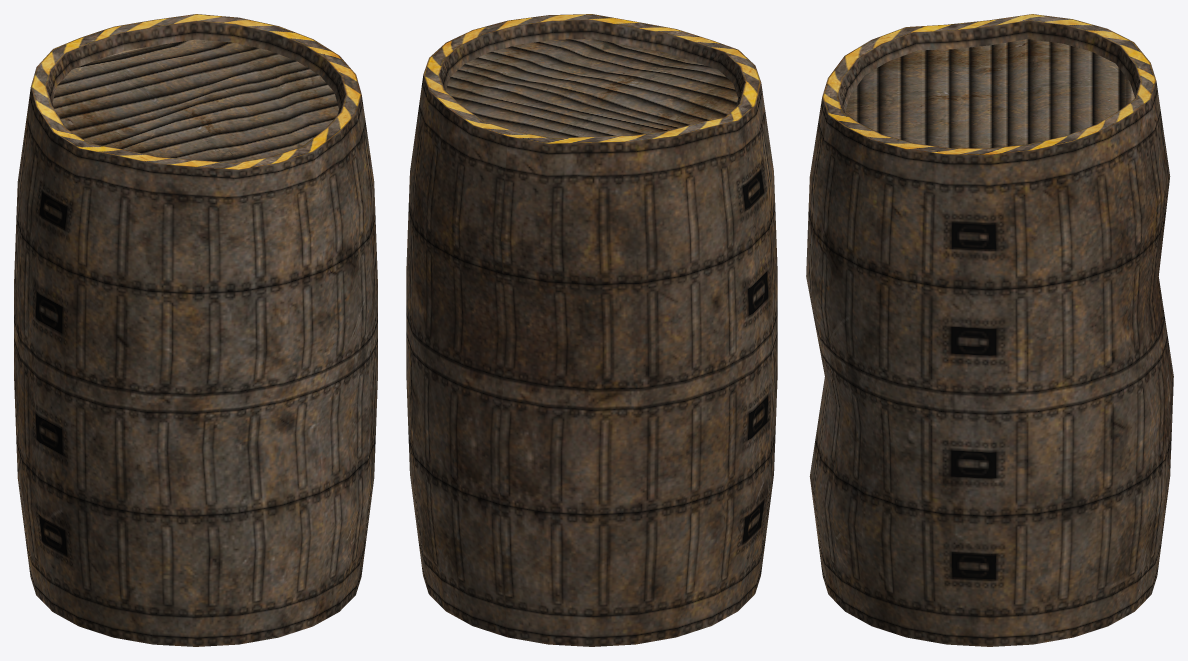
Rendered from barrel.fbx.
3 views of the same model, side by side, from view 1: azimuth 30°, elevation 25°; view 2: azimuth 150°, elevation 25°; view 3: azimuth 270°, elevation 25° (orthographic). The views are drawn at different scales.
Parts seen in each view (by area): view 1: Mesh; view 2: Mesh; view 3: Mesh.
Part boxes in pixels (x1=…): Mesh: x1=14, y1=14, x2=377, y2=646; Mesh: x1=406, y1=14, x2=777, y2=646; Mesh: x1=806, y1=14, x2=1173, y2=646.
Size of the model in its own units: 76 by 114 by 76.
